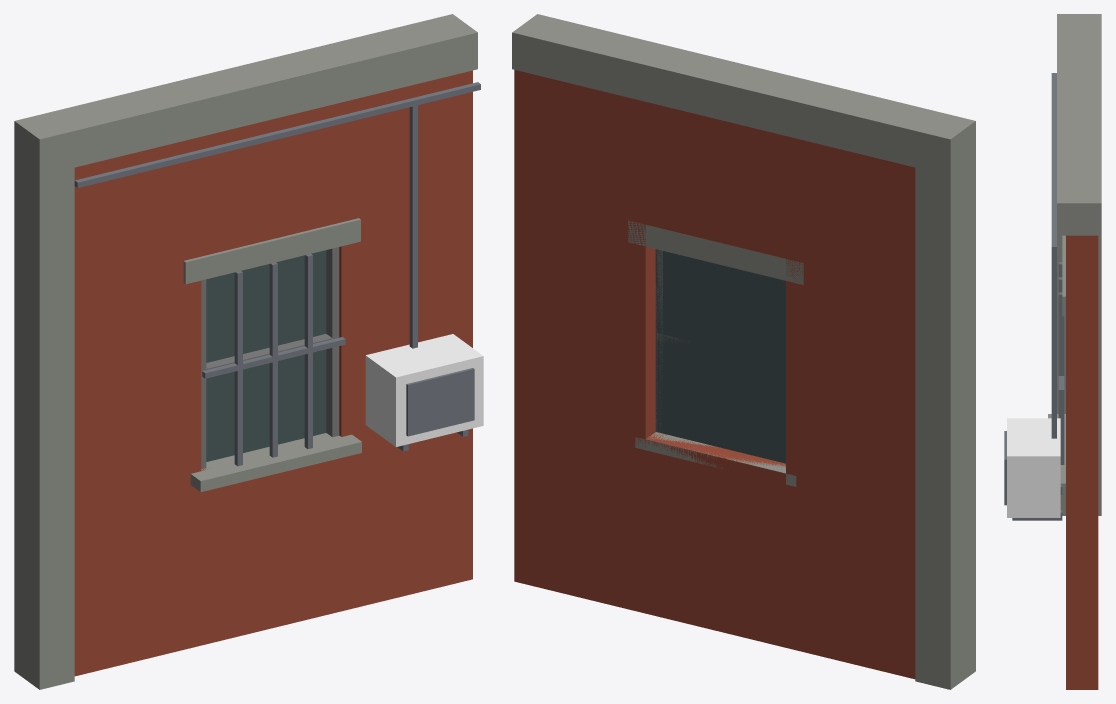
Rendered from mid-w1_close.fbx.
3 renders of one model, left to right at view 1: azimuth 30°, elevation 25°; view 2: azimuth 150°, elevation 25°; view 3: azimuth 270°, elevation 25°, orthographic. The views are drawn at different scales.
Parts seen in each view (by area): view 1: a2020/0/mid-w1_close; view 2: a2020/0/mid-w1_close; view 3: a2020/0/mid-w1_close.
Part boxes in pixels (x1=…): a2020/0/mid-w1_close: x1=14, y1=14, x2=483, y2=689; a2020/0/mid-w1_close: x1=512, y1=14, x2=975, y2=689; a2020/0/mid-w1_close: x1=1004, y1=14, x2=1101, y2=689.
Bounding box in the file's own units: 2.5 × 3 × 0.545.
